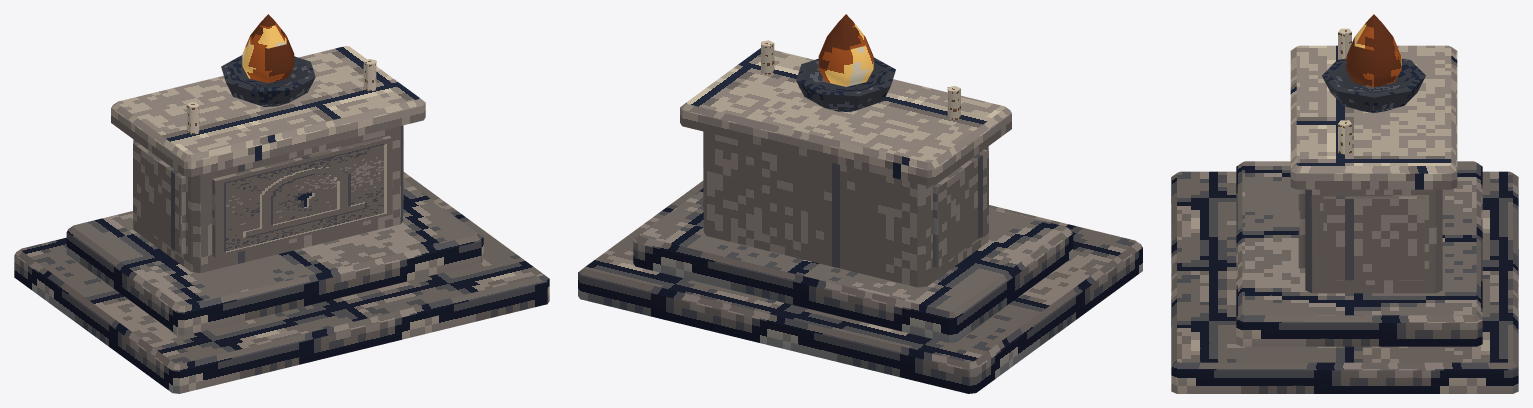
File: tmpl.altar.glb
3 views of the same model, side by side, from view 1: azimuth 30°, elevation 25°; view 2: azimuth 150°, elevation 25°; view 3: azimuth 270°, elevation 25° (orthographic). The views are drawn at different scales.
Visible parts, largest first — view 1: kit_altar, kit_reliefs, kit_bowl, kit_flame, kit_candles; view 2: kit_altar, kit_reliefs, kit_bowl, kit_flame, kit_candles; view 3: kit_altar, kit_reliefs, kit_bowl, kit_flame, kit_candles.
Boxes of the visible parts, left/top/right/bottom form: kit_altar: left=14, top=46, right=549, bottom=393; kit_reliefs: left=133, top=125, right=403, bottom=257; kit_bowl: left=221, top=55, right=315, bottom=106; kit_flame: left=242, top=14, right=294, bottom=83; kit_candles: left=186, top=59, right=376, bottom=134; kit_altar: left=578, top=48, right=1142, bottom=393; kit_reliefs: left=703, top=132, right=988, bottom=267; kit_bowl: left=796, top=57, right=895, bottom=112; kit_flame: left=818, top=14, right=873, bottom=86; kit_candles: left=761, top=40, right=960, bottom=119; kit_altar: left=1171, top=45, right=1518, bottom=393; kit_reliefs: left=1298, top=189, right=1424, bottom=280; kit_bowl: left=1322, top=58, right=1425, bottom=112; kit_flame: left=1346, top=14, right=1401, bottom=87; kit_candles: left=1338, top=28, right=1351, bottom=154.
Size of the model in its own units: 3.2 by 2.15 by 2.4.
7 materials, 7 textured.
